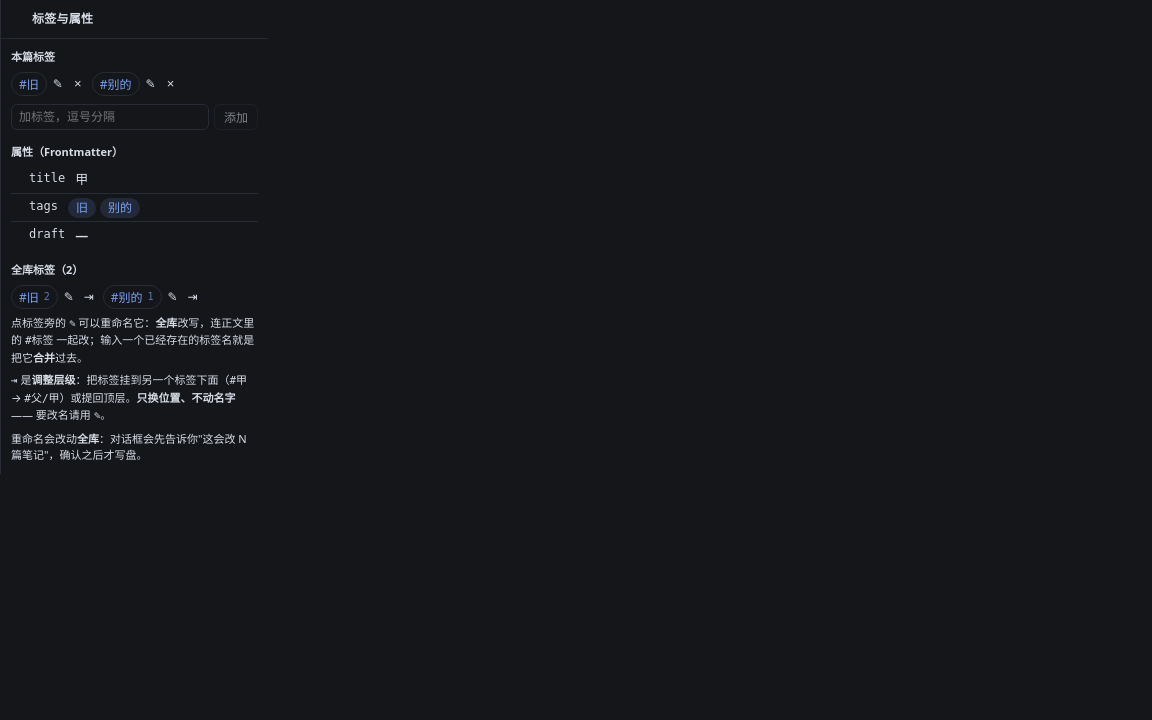
it: 入口与键盘 › 输入框里回车 = 预览改动（不需要去找按钮）
This screenshot has width=1152, height=720.
Expected: the button "#旧" is shown, [11,72,47,96]
Click the 1st button "✎": (58, 84) [49,74,67,92]
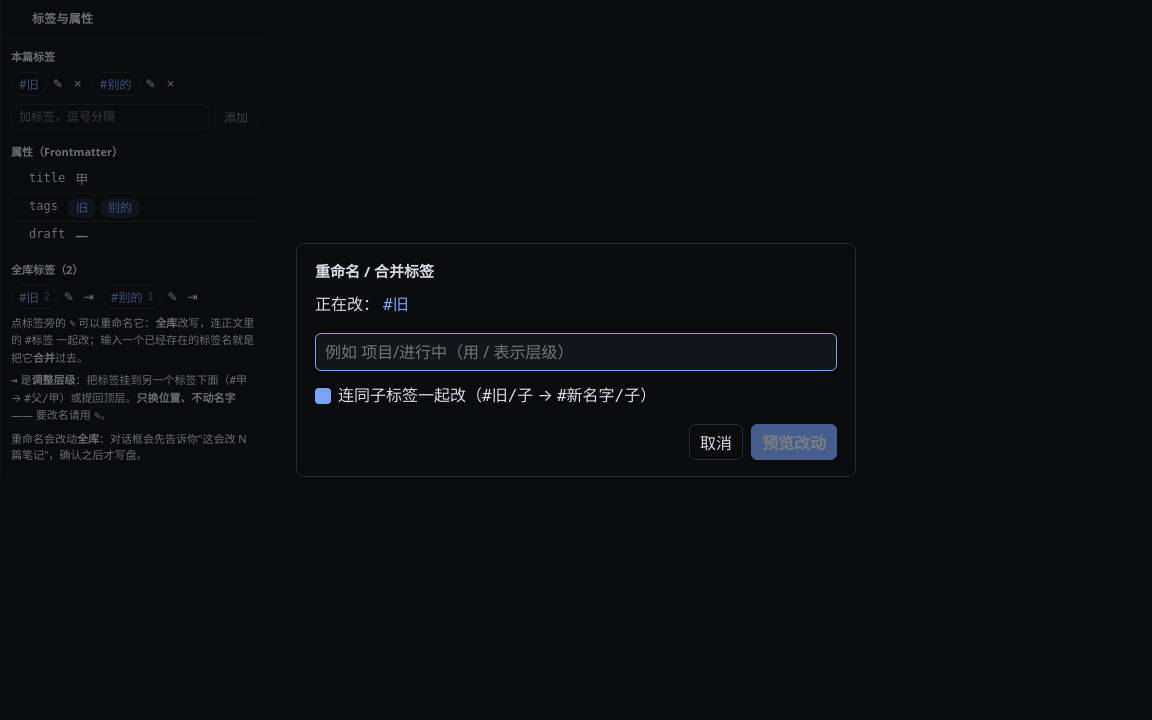
Now the element showing "重命名 / 合并标签 正在改：#旧 连同子标签一起改（#旧/子 → #新名字/子） 取消 预览改动" is shown
In the field with placeholder "例如 项目/进行中（用 / 表示层级）": (576, 352) [315,333,837,371], type "新"
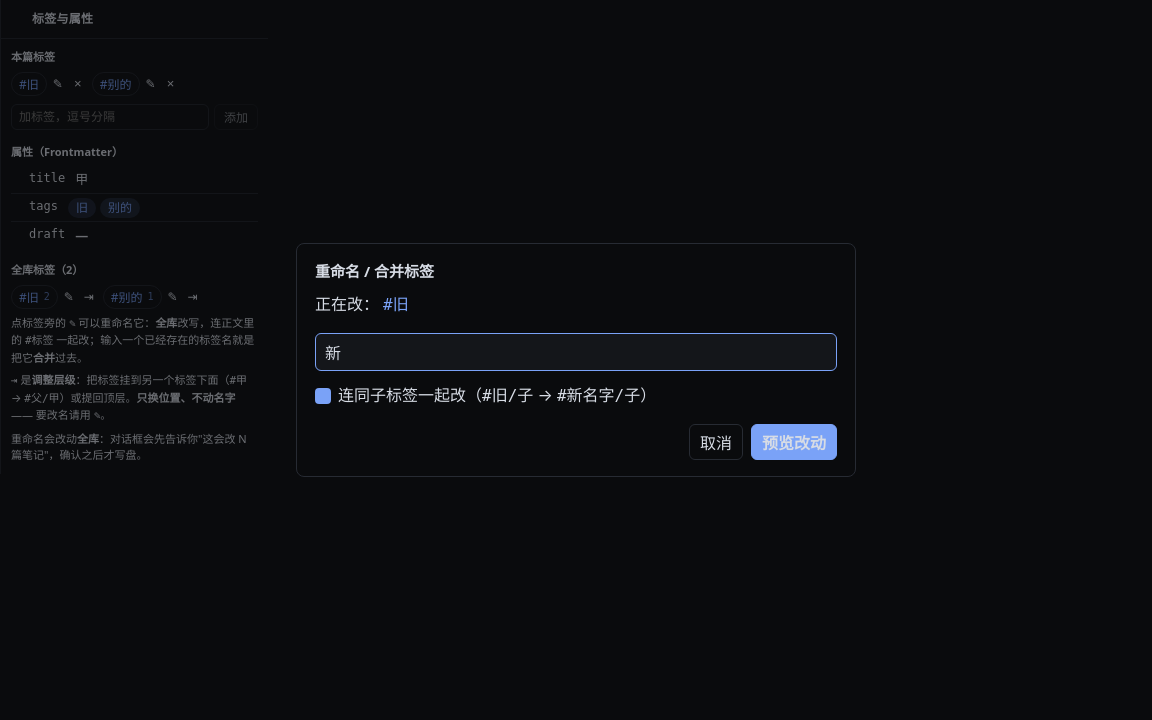
Press Enter in the field named "新的标签名", box [315,333,837,371]
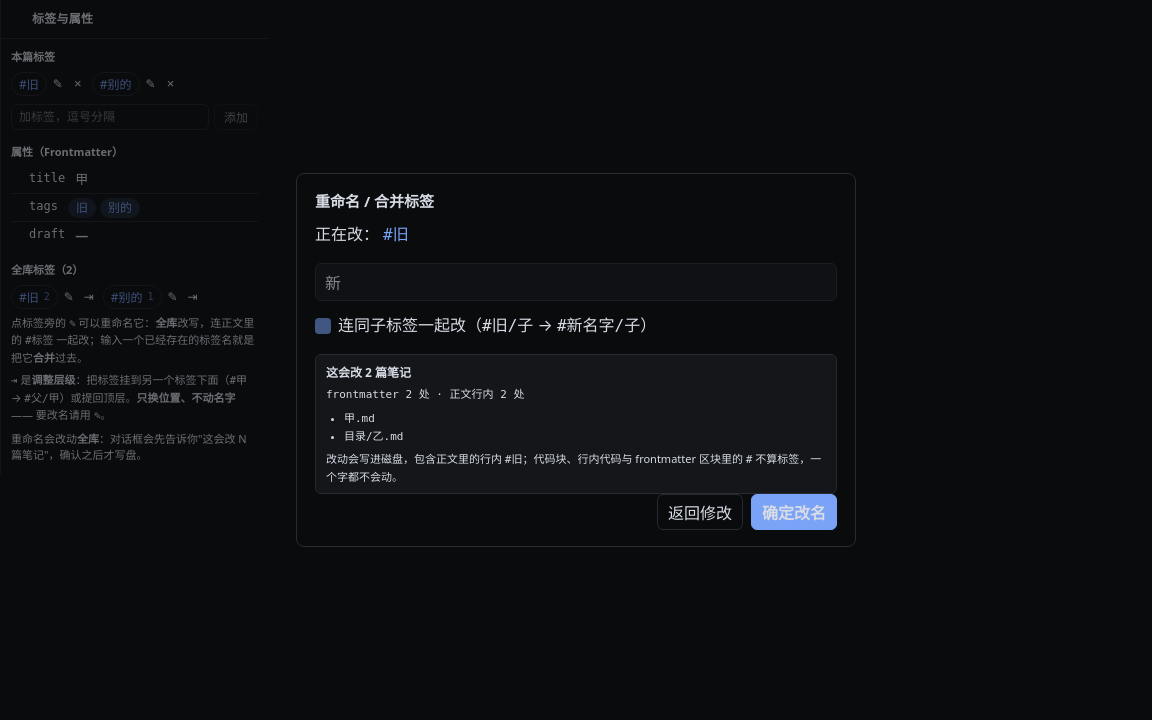
Now the element that starts with "这会改 2 篇笔记" is shown, box [315,354,837,494]
